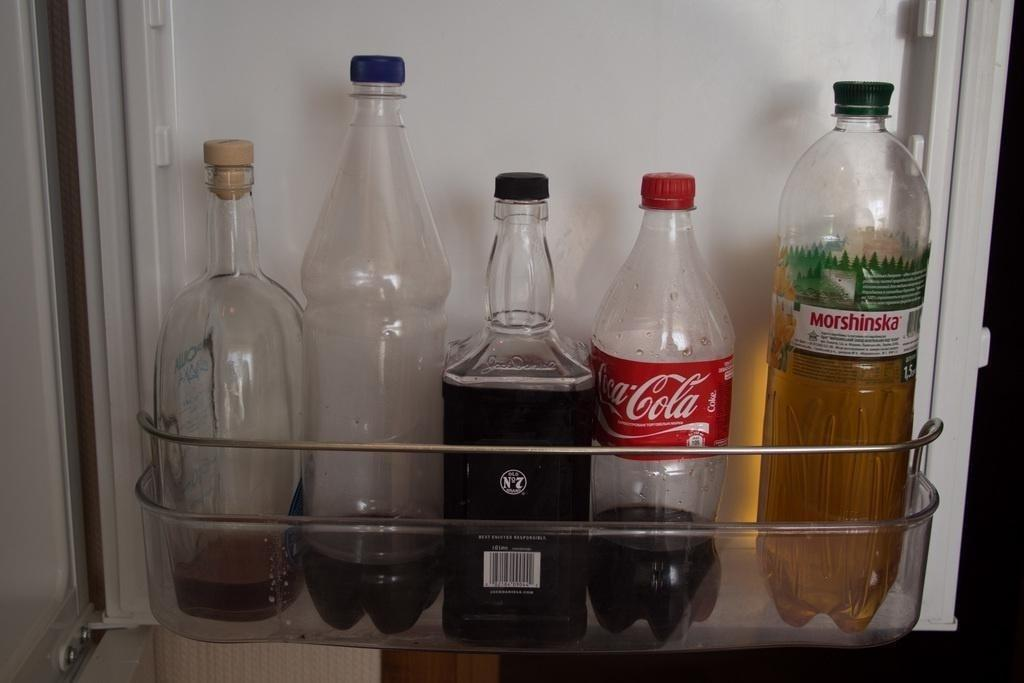bottle-glass: (146, 133, 308, 621), (443, 169, 589, 642)
bottle-plastic: (750, 71, 936, 632), (287, 53, 456, 631), (585, 169, 741, 641)
